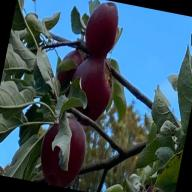Apples: (35, 114, 91, 189), (64, 53, 118, 128), (81, 0, 121, 57), (55, 46, 84, 88)
